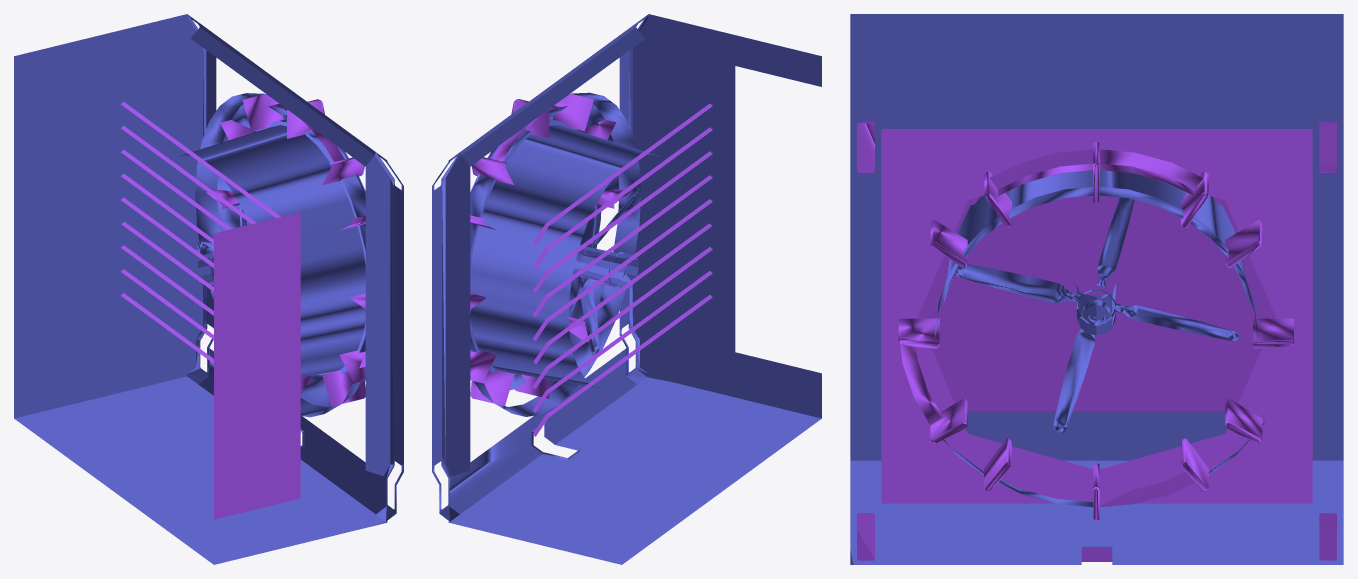
File: uee_stanton_kit_ext_wall_4x8x8_04_reg.glb
3 views of the same model, side by side, from view 1: azimuth 30°, elevation 25°; view 2: azimuth 150°, elevation 25°; view 3: azimuth 270°, elevation 25° (orthographic). The views are drawn at different scales.
Bounding box in the file's own units: 4.91 × 8 × 8.
